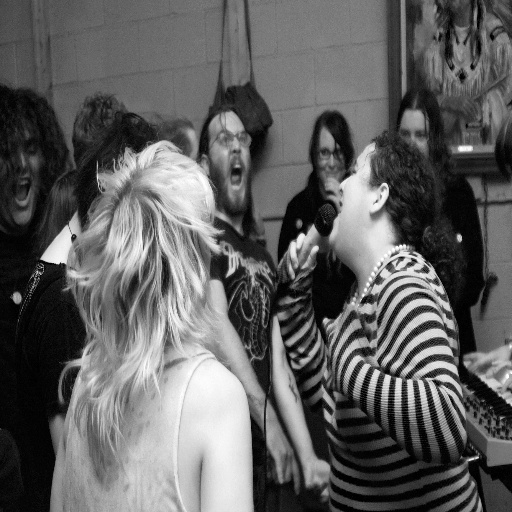hand: (262, 418, 302, 495), (284, 237, 337, 292), (304, 456, 331, 505), (322, 175, 341, 212)
